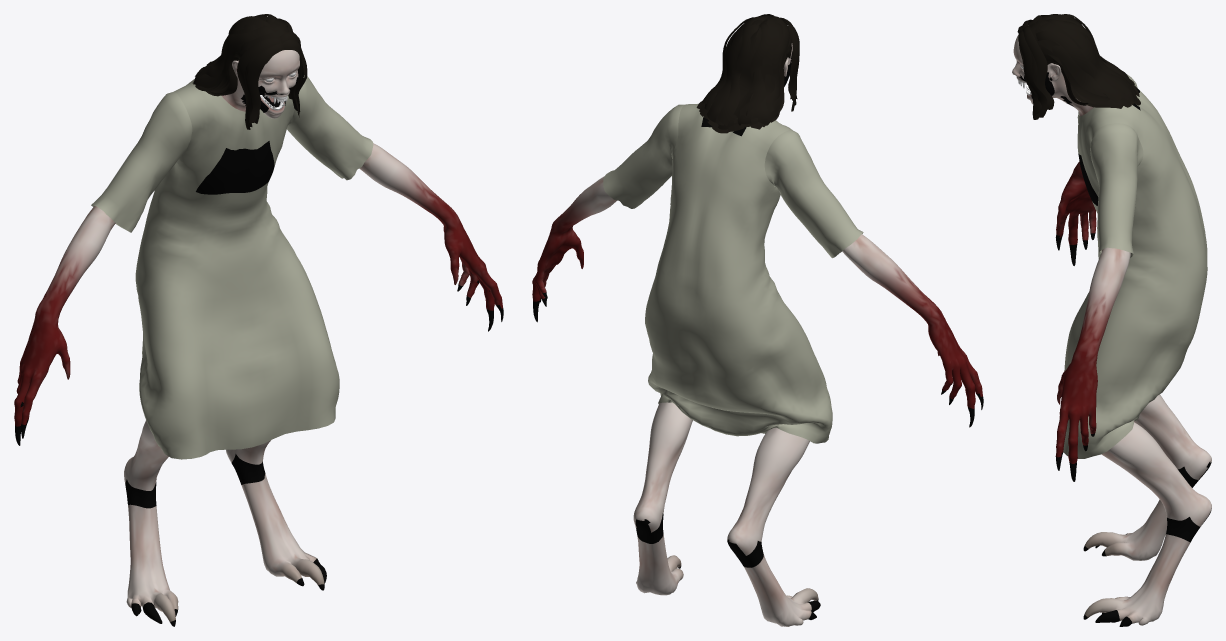
File: monster-temp.fbx
3 views of the same model, side by side, from view 1: azimuth 30°, elevation 25°; view 2: azimuth 150°, elevation 25°; view 3: azimuth 270°, elevation 25° (orthographic). The views are drawn at different scales.
Visible parts, largest first — view 1: dress_low, body_low, hair; view 2: dress_low, body_low, hair; view 3: dress_low, body_low, hair.
Boxes of the visible parts, x1,y1,x2,y2 form: dress_low: [91, 75, 373, 459]; body_low: [14, 50, 503, 626]; hair: [192, 14, 307, 129]; dress_low: [603, 103, 863, 443]; body_low: [532, 43, 983, 626]; hair: [696, 14, 799, 133]; dress_low: [1063, 74, 1207, 458]; body_low: [1012, 34, 1211, 626]; hair: [1017, 14, 1140, 119].
Bounding box in the file's own units: 230 × 276 × 87.79.
